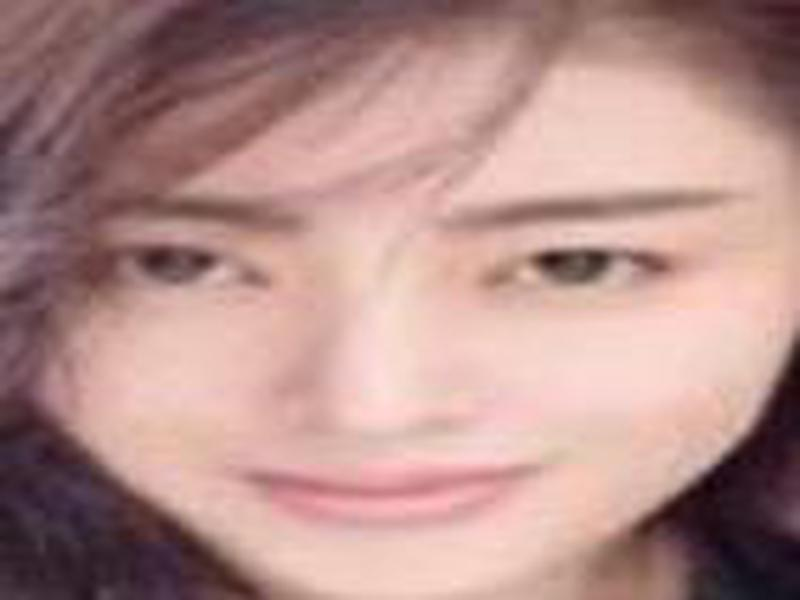without_mask: (21, 42, 800, 593)
